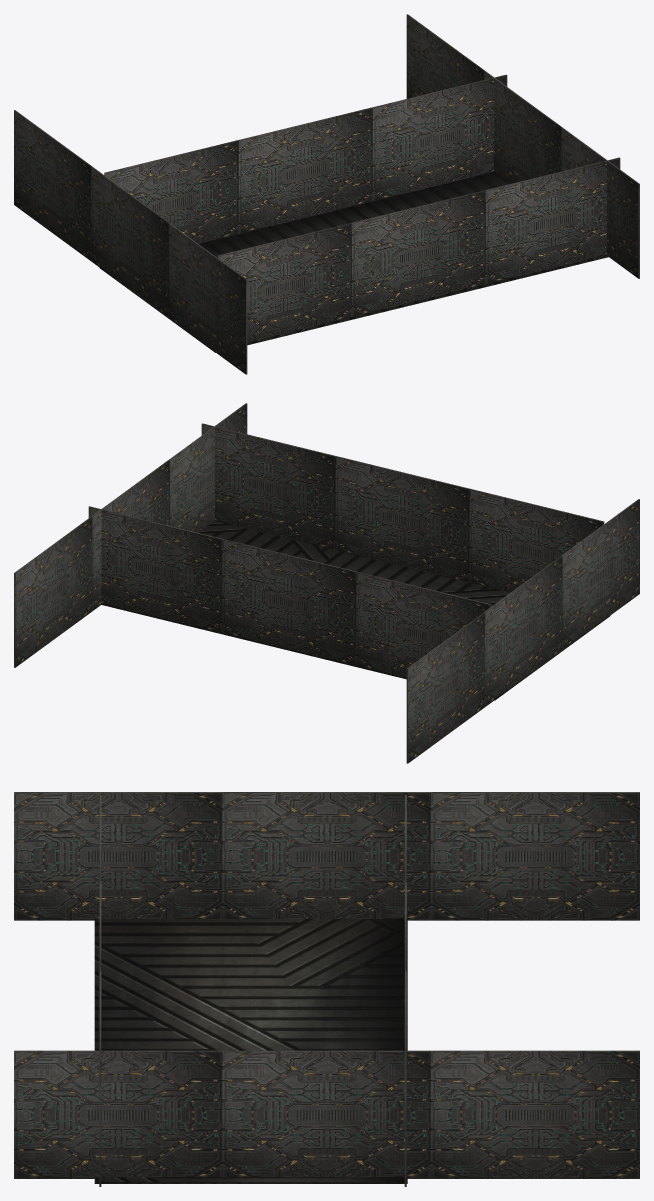
Rendered from Escenario Tamaño Test.FBX.
3 renders of one model, top to bottom at view 1: azimuth 30°, elevation 25°; view 2: azimuth 150°, elevation 25°; view 3: azimuth 270°, elevation 25°, orthographic. The views are drawn at different scales.
Parts seen in each view (by area): view 1: Box003, Box002, Box005, Box004, Box001; view 2: Box002, Box003, Box005, Box004, Box001; view 3: Box004, Box005, Box001, Box002, Box003.
Boxes of the visible parts, x1,y1,x2,y2 form: Box003: (217,157,620,342); Box002: (104,74,507,243); Box005: (14,110,247,374); Box004: (406,14,639,278); Box001: (99,172,608,352); Box002: (88,506,491,677); Box003: (201,423,604,592); Box005: (406,499,639,763); Box004: (14,403,247,667); Box001: (101,520,610,700); Box004: (14,1050,639,1178); Box005: (14,792,639,920); Box001: (94,919,407,1183); Box002: (404,794,406,1186); Box003: (99,794,101,1186).
Bounding box in the file's own units: 40446 × 9000 × 40000.
2 materials, 2 textured.
